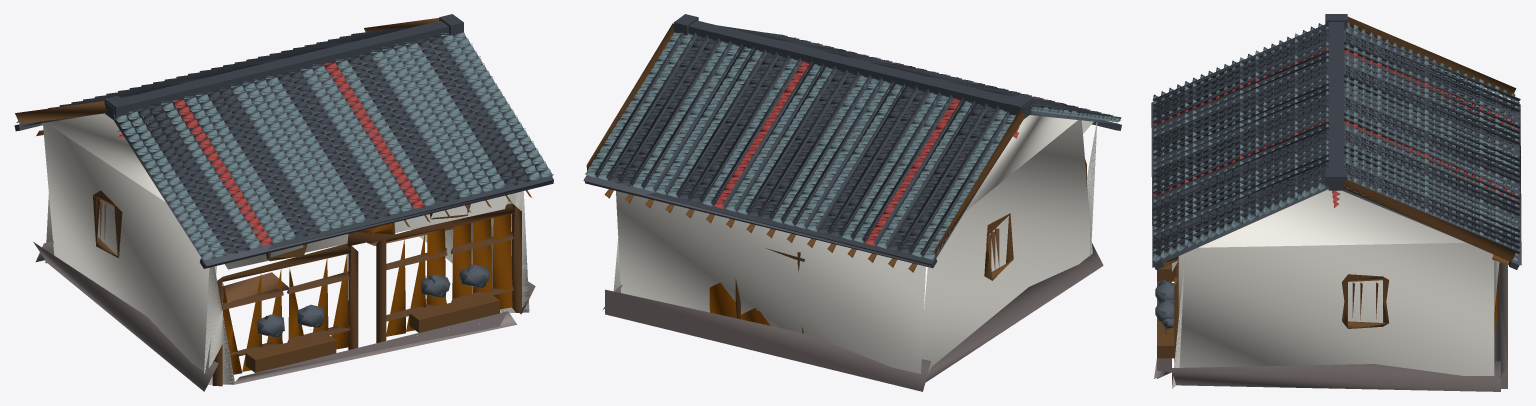
Rendered from lib_lib_house_b1.lod.glb.
3 renders of one model, left to right at view 1: azimuth 30°, elevation 25°; view 2: azimuth 150°, elevation 25°; view 3: azimuth 270°, elevation 25°, orthographic. The views are drawn at different scales.
Parts seen in each view (by area): view 1: lhb1_body; view 2: lhb1_body; view 3: lhb1_body.
Part boxes in pixels (x1,y1,x2,y2): lhb1_body: (14, 14, 553, 391); lhb1_body: (583, 14, 1121, 391); lhb1_body: (1151, 14, 1521, 391).
Bounding box in the file's own units: 7.38 × 4.58 × 7.02.
1 material, 1 textured.
